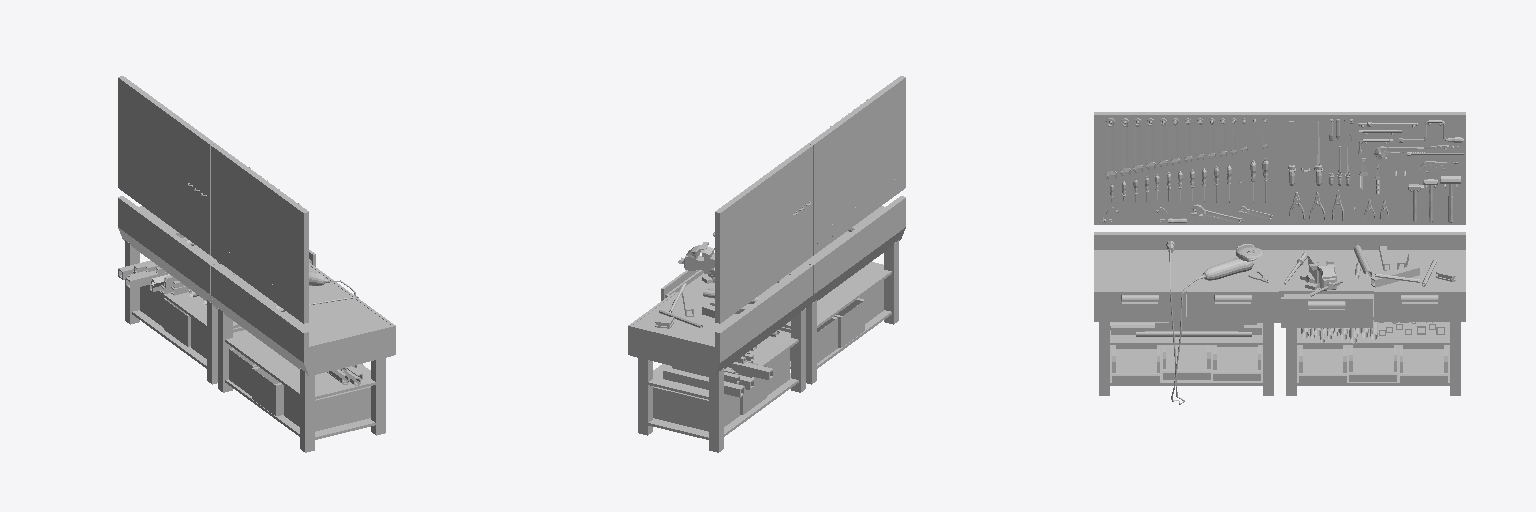
Rendered from work tool table.obj.
3 views of the same model, side by side, from view 1: azimuth 30°, elevation 25°; view 2: azimuth 150°, elevation 25°; view 3: azimuth 270°, elevation 25° (orthographic).
Visible parts, largest first — view 1: Cube.261, Cube.260, Cube.093, Cube.100, Cube.095, Cube.098, Cube.211, Cube.101, Cube.212, Cube.094, Cube.209, Cube.213 (+4 smaller); view 2: Cube.260, Cube.261, Cube.100, Cube.093, Cube.101, Cube.210, Cube.095, Cube.098, Cube.104, Cube.102, Cube.212, Cube.306 (+5 smaller); view 3: Cube.260, Cube.261, Cube.093, Cube.100, Cube.096, Cube.207, Cube.103, Cube.211, Cube.210, Cube.208, Cube.209, Cube.213 (+10 smaller).
Part boxes in pixels (x1,y1,x2,y2): Cube.261: (211, 144, 308, 323); Cube.260: (118, 76, 215, 255); Cube.093: (211, 264, 392, 375); Cube.100: (118, 196, 234, 307); Cube.095: (218, 308, 385, 452); Cube.098: (225, 330, 375, 399); Cube.211: (284, 385, 370, 431); Cube.101: (125, 240, 217, 384); Cube.212: (252, 367, 283, 415); Cube.094: (225, 379, 375, 439); Cube.209: (164, 298, 190, 346); Cube.213: (229, 348, 258, 395); Cube.260: (715, 144, 812, 323); Cube.261: (808, 76, 905, 255); Cube.100: (631, 264, 812, 375); Cube.093: (789, 196, 905, 307); Cube.101: (638, 308, 805, 452); Cube.210: (653, 386, 739, 431); Cube.095: (806, 240, 898, 384); Cube.098: (783, 262, 891, 328); Cube.104: (648, 330, 798, 399); Cube.102: (648, 373, 798, 439); Cube.212: (834, 298, 864, 347); Cube.306: (663, 367, 744, 397); Cube.260: (1280, 112, 1465, 224); Cube.261: (1094, 112, 1279, 224); Cube.093: (1094, 232, 1279, 319); Cube.100: (1280, 232, 1465, 319); Cube.096: (1094, 291, 1278, 321); Cube.207: (1281, 294, 1372, 327); Cube.103: (1374, 291, 1465, 321); Cube.211: (1112, 345, 1159, 382); Cube.210: (1400, 345, 1447, 382); Cube.208: (1299, 345, 1346, 382); Cube.209: (1349, 345, 1396, 381); Cube.213: (1213, 345, 1260, 380).
Bounding box in the file's own units: 1.12 × 1.99 × 2.75.